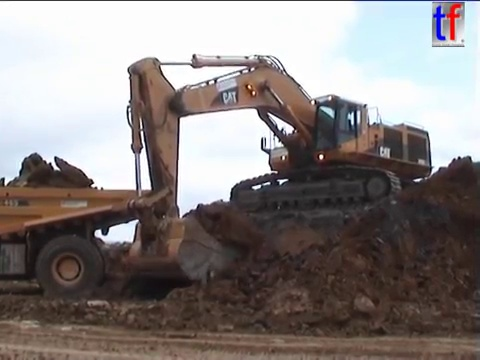excavator: (118, 50, 438, 288)
truck: (1, 181, 172, 301)
